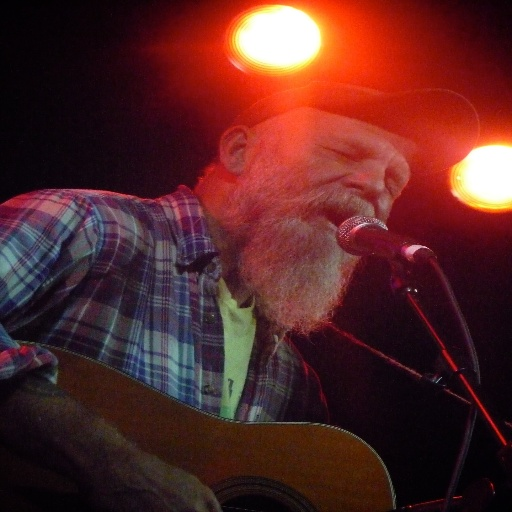hand: (93, 453, 225, 511)
